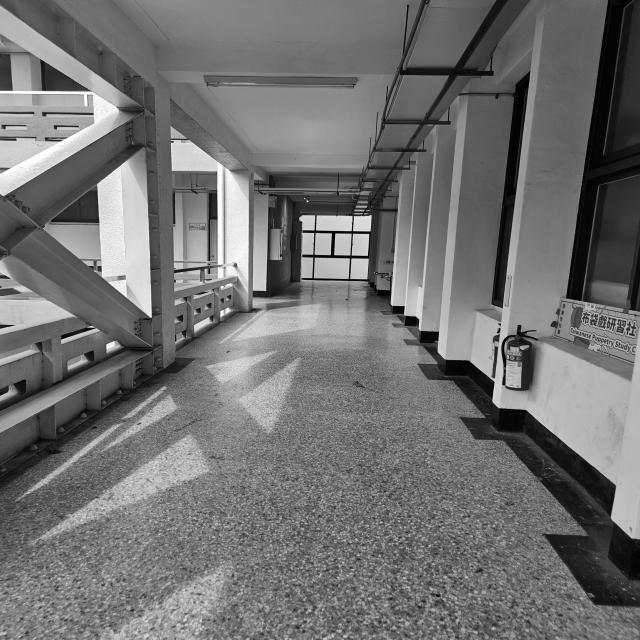Road-Object: (2, 281, 638, 640)
